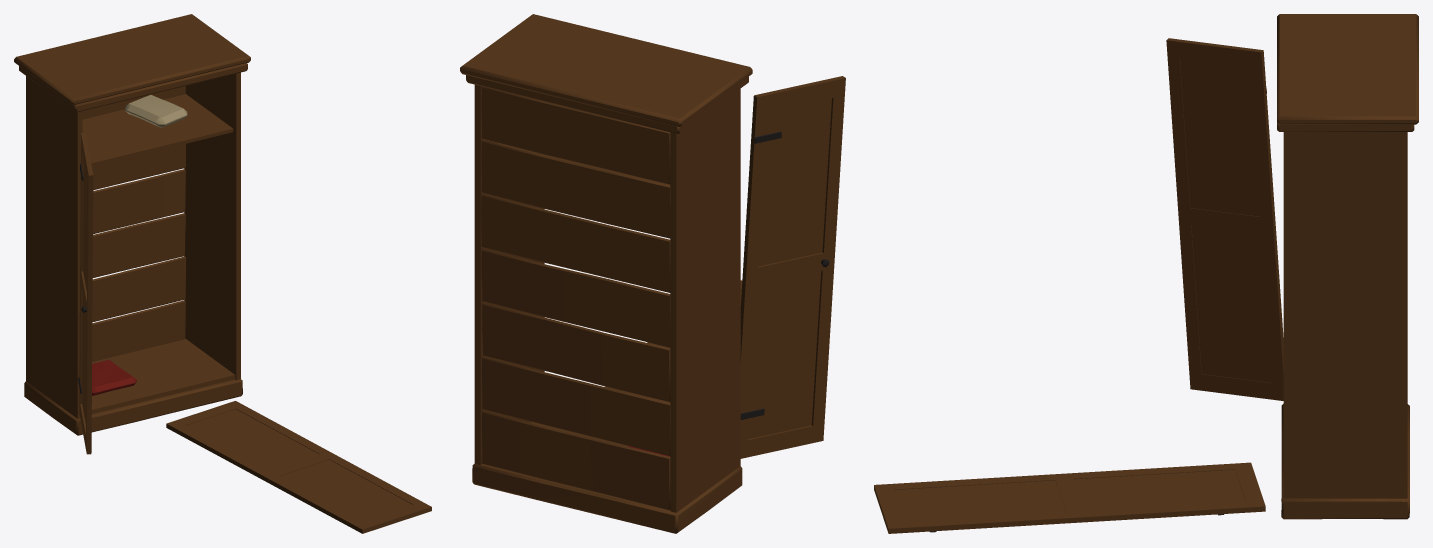
Rendered from schrank_kaputt.glb.
3 views of the same model, side by side, from view 1: azimuth 30°, elevation 25°; view 2: azimuth 150°, elevation 25°; view 3: azimuth 270°, elevation 25° (orthographic). The views are drawn at different scales.
Parts seen in each view (by area): view 1: schrank_kaputt; view 2: schrank_kaputt; view 3: schrank_kaputt.
Boxes of the visible parts, x1,y1,x2,y2 form: schrank_kaputt: (14,14,431,533); schrank_kaputt: (460,14,845,533); schrank_kaputt: (874,14,1418,533).
Bounding box in the file's own units: 1.38 × 2.02 × 2.42.
